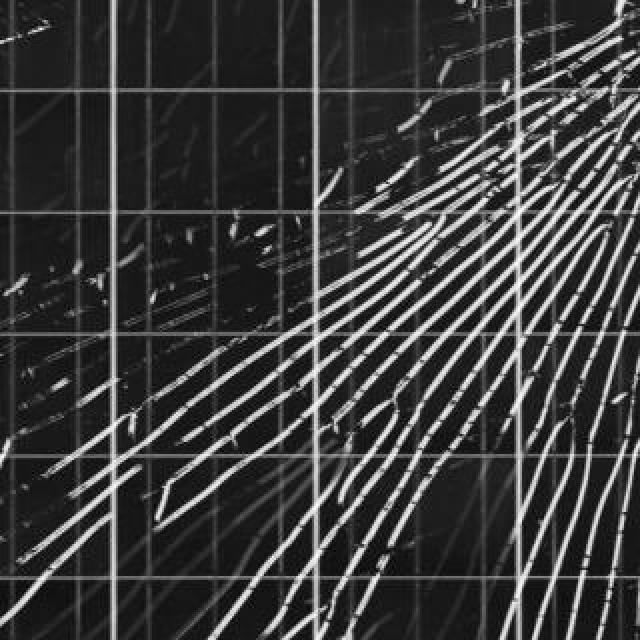Physical-damage: (517, 318, 640, 639), (521, 26, 640, 298), (386, 152, 508, 383), (289, 468, 409, 628), (265, 302, 369, 386)
